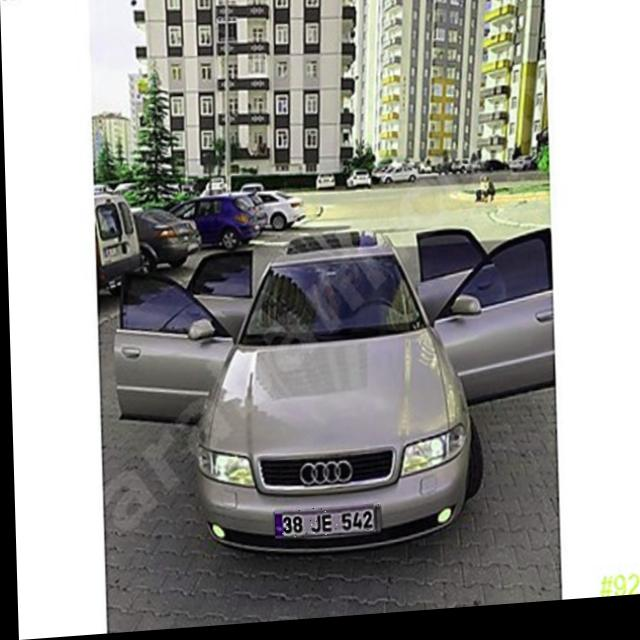license_plate: (272, 509, 377, 544)
